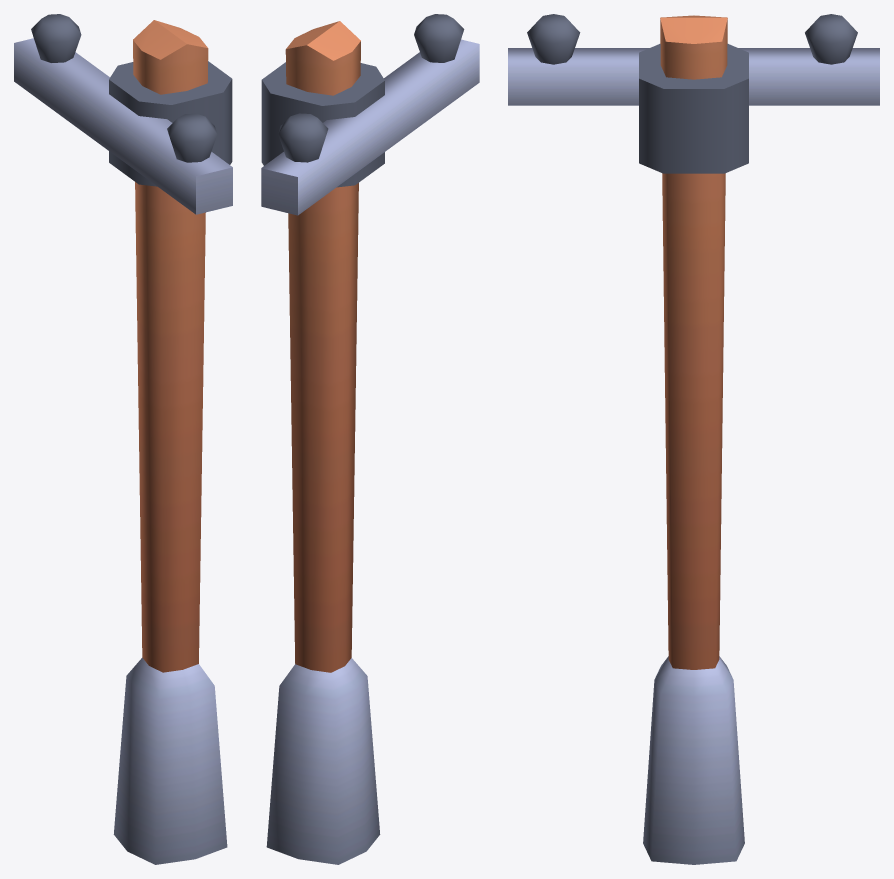
File: electricity-pole-single.glb
The picture shows the model from 3 angles, left to right: view 1: azimuth 30°, elevation 25°; view 2: azimuth 150°, elevation 25°; view 3: azimuth 270°, elevation 25°; orthographic projection. The views are drawn at different scales.
Visible parts, largest first — view 1: electricity-pole-single; view 2: electricity-pole-single; view 3: electricity-pole-single.
Part boxes in pixels (x1,y1,x2,y2): electricity-pole-single: (14, 14, 232, 864); electricity-pole-single: (261, 14, 479, 864); electricity-pole-single: (508, 14, 879, 864).
Bounding box in the file's own units: 0.0791 × 0.525 × 0.2142.
1 material, 1 textured.
